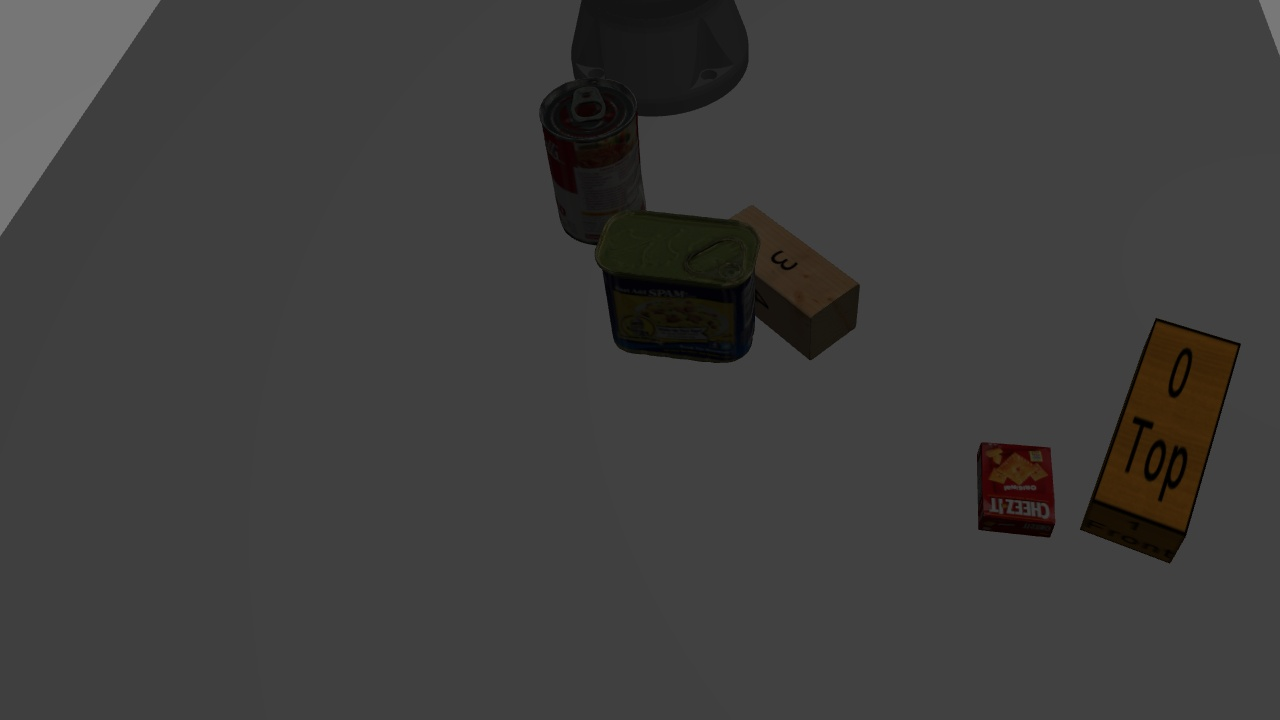cracker_box: (974, 435, 1055, 539)
jenga: (1078, 316, 1248, 572)
potted_meat_can: (594, 203, 760, 375)
tomato_soup_can: (529, 74, 667, 248)
wood_block: (717, 200, 866, 365)
